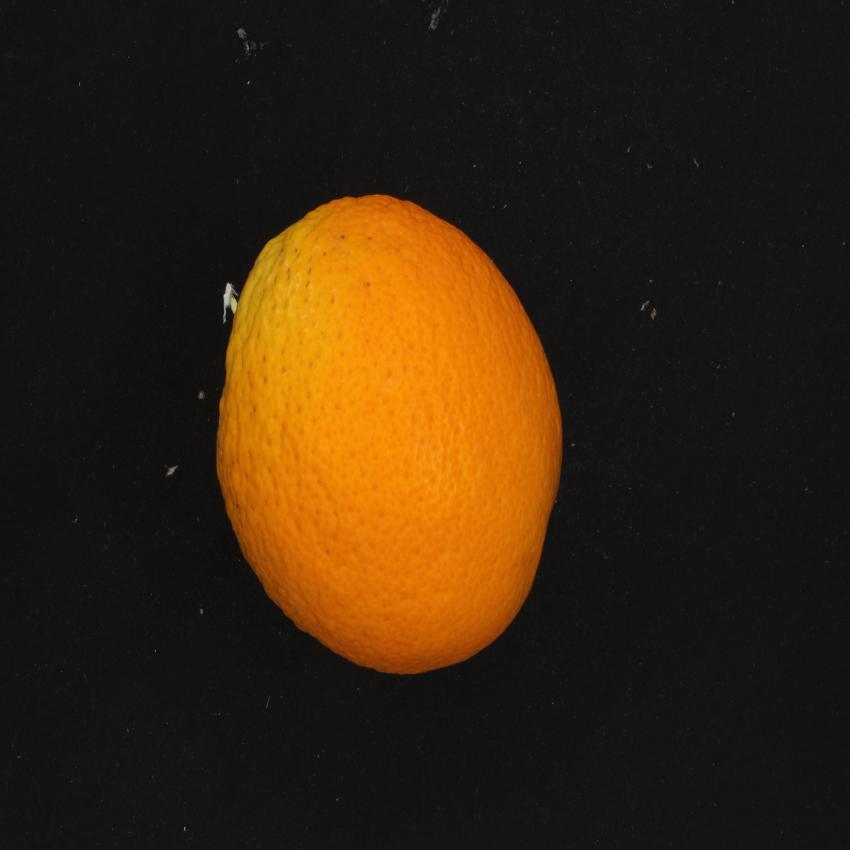Buen estado: (211, 175, 572, 710)
